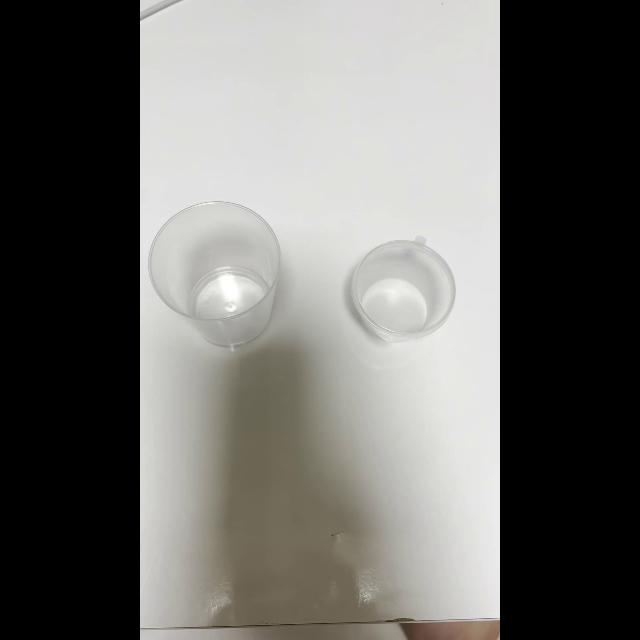clean: (152, 203, 282, 357), (356, 234, 454, 344)
